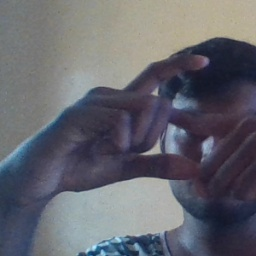E: (111, 50, 237, 184)
